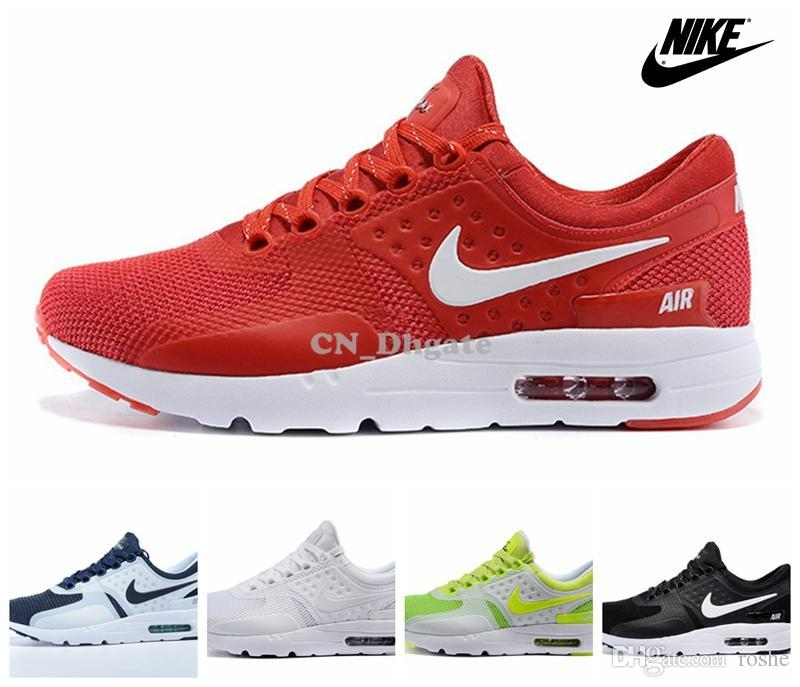nike: (429, 217, 674, 314)
